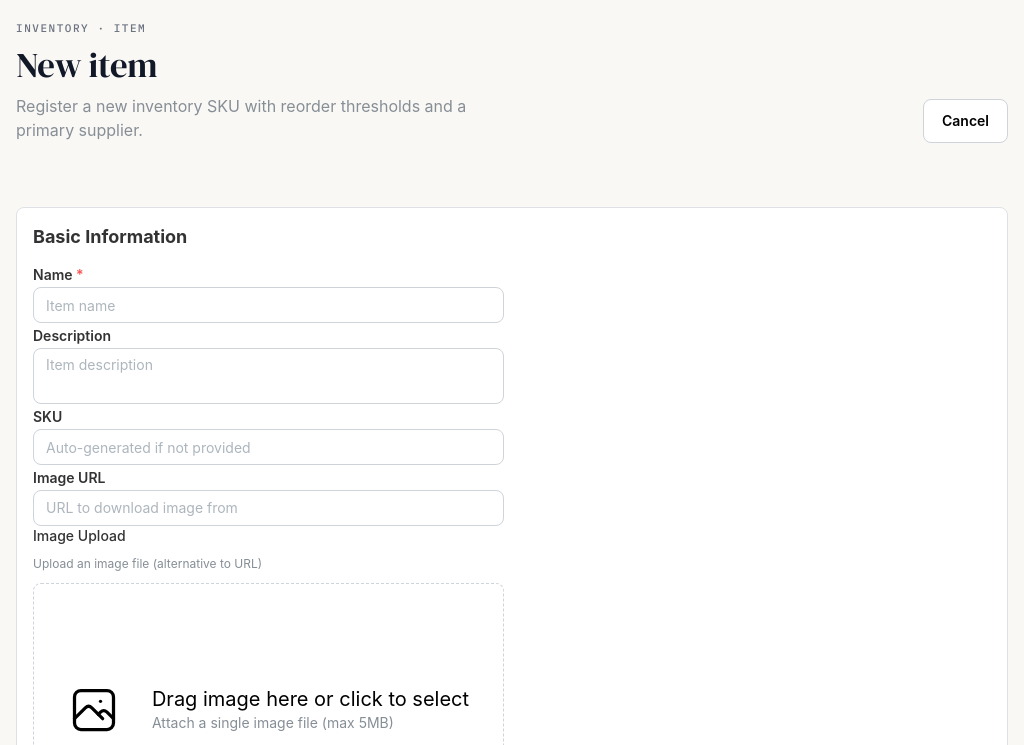
Test: InventoryItemFormPage › handles API errors
Type "New Item" into the field labelled "Name *" at (268, 305), box [33, 287, 504, 323]
(page scrolled)
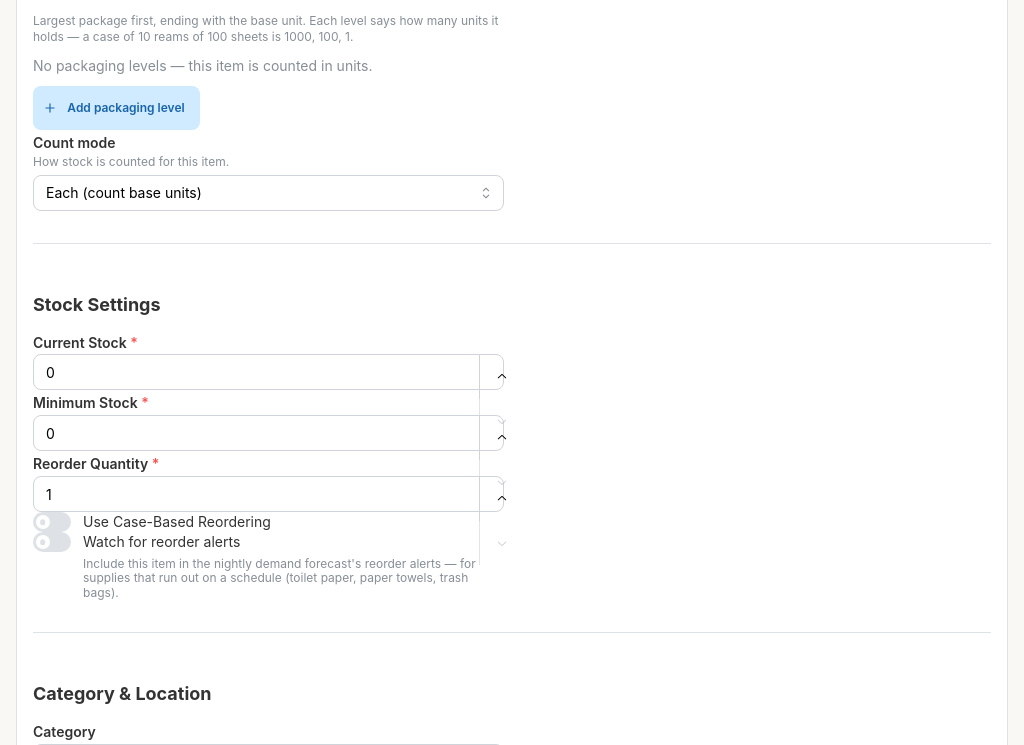
Replace the text in the field labelled "Current Stock *" with "10" at (268, 372), box [33, 354, 504, 390]
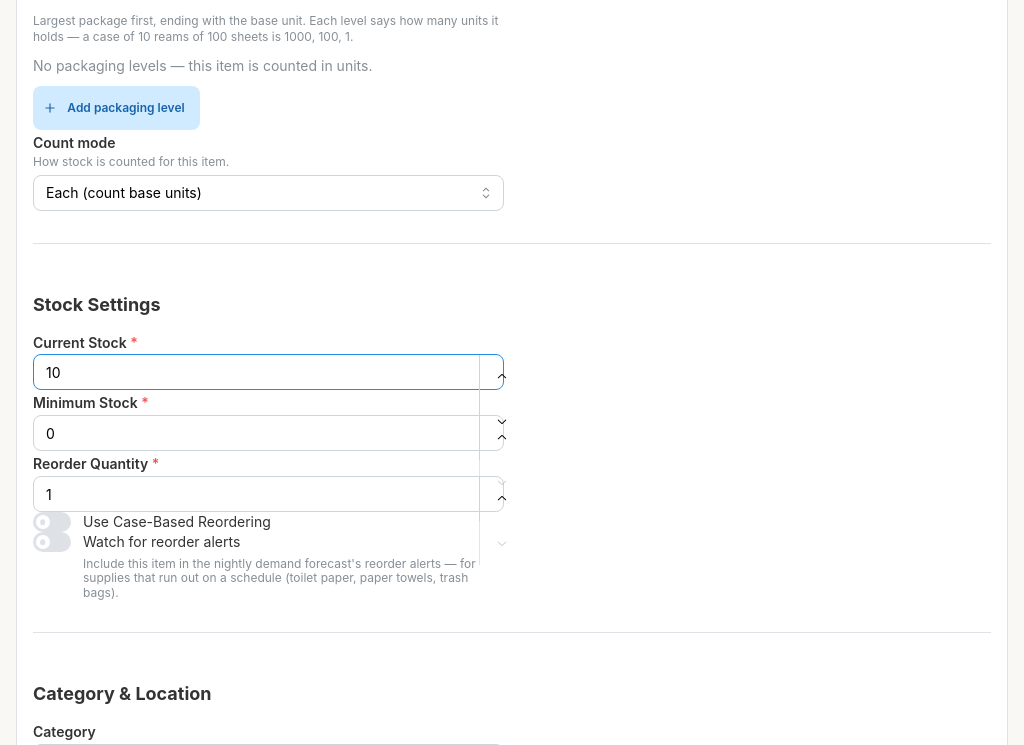
Replace the text in the field labelled "Minimum Stock *" with "5" at (268, 433), box [33, 415, 504, 451]
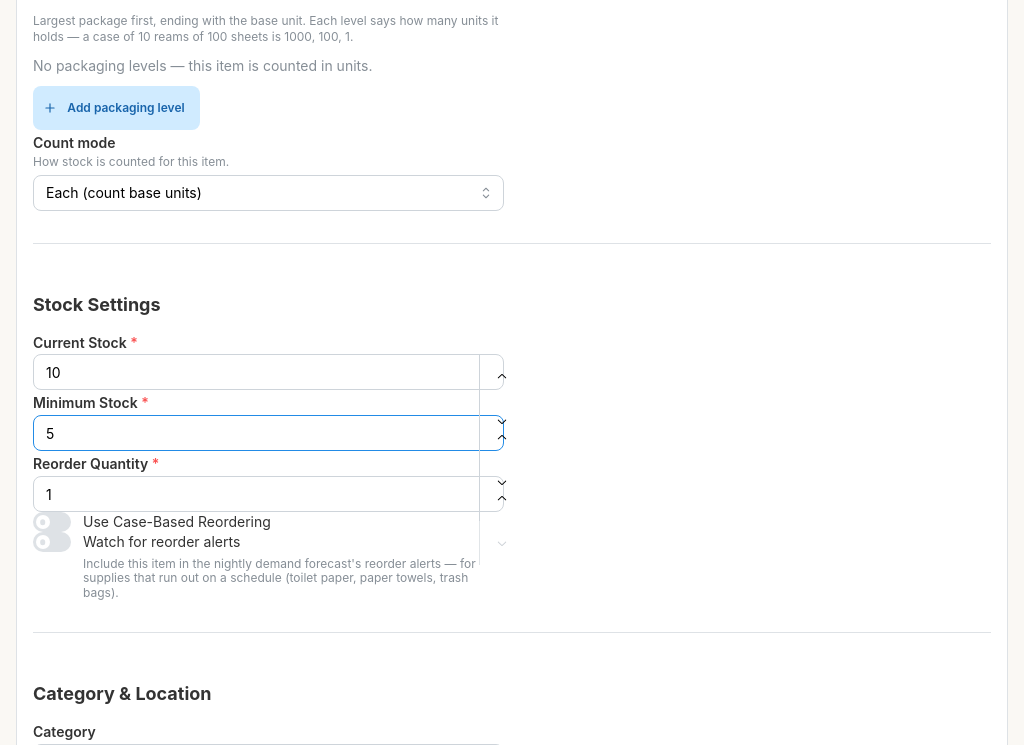
Replace the text in the field labelled "Reorder Quantity *" with "20" at (268, 494), box [33, 476, 504, 512]
(page scrolled)
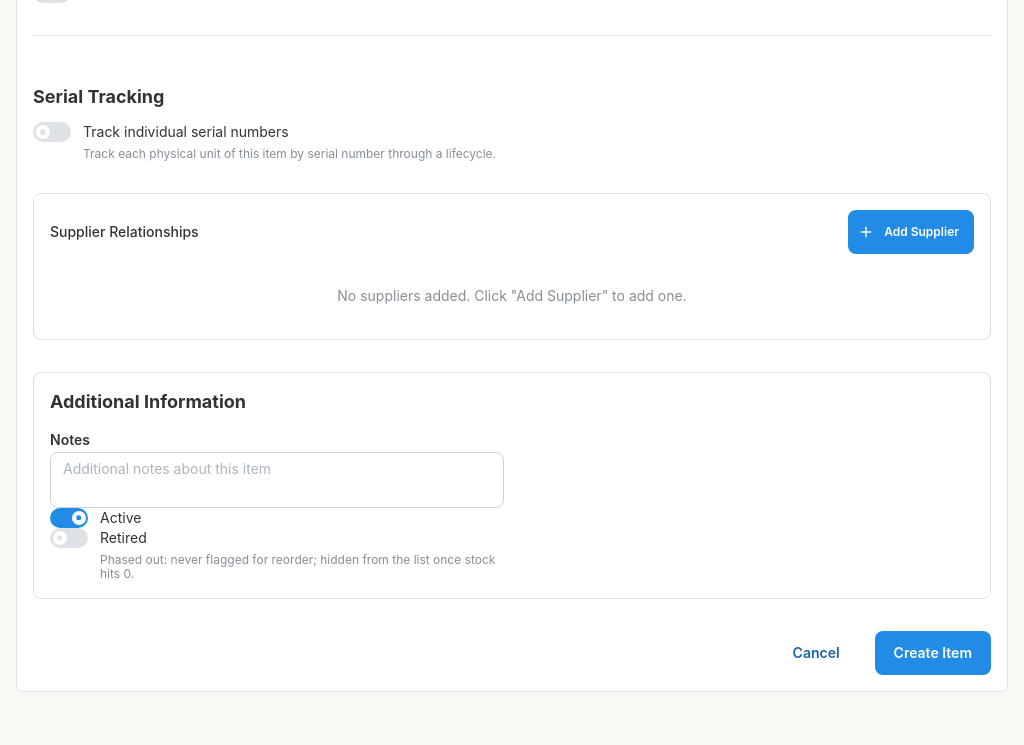
Click the button "Create Item" at (933, 653), box [875, 631, 991, 675]
(page scrolled)
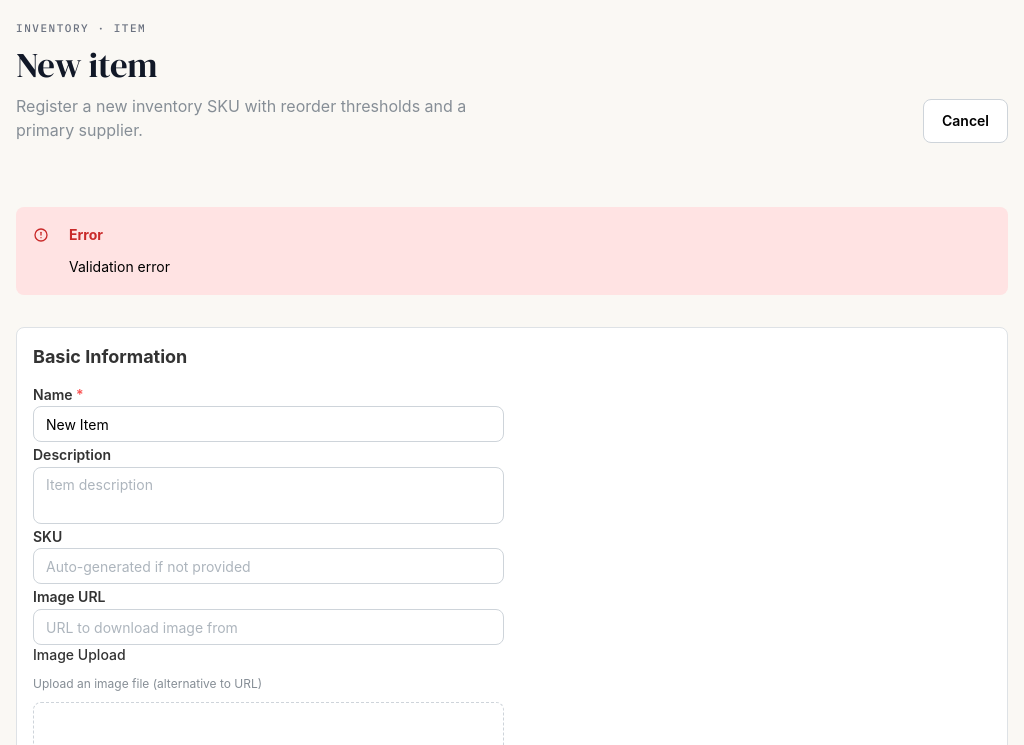
Expected: the text "Validation error" is shown, [69, 258, 170, 275]
